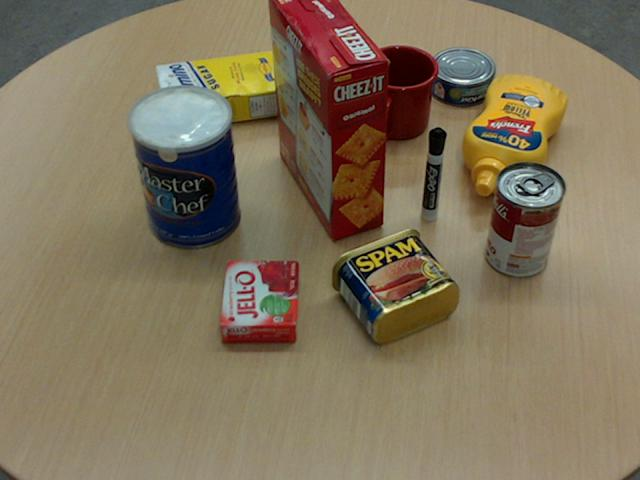cracker_box: (268, 0, 387, 239)
gelatin_box: (219, 259, 299, 341)
large_marker: (422, 128, 446, 220)
master_chef_can: (128, 84, 240, 249)
mug: (361, 44, 439, 139)
mustard_bottle: (461, 74, 565, 196)
potted_meat_can: (330, 226, 458, 342)
sugar_box: (154, 47, 305, 129)
tomato_soup_can: (485, 161, 565, 276)
tuna_fish_can: (427, 47, 494, 105)
